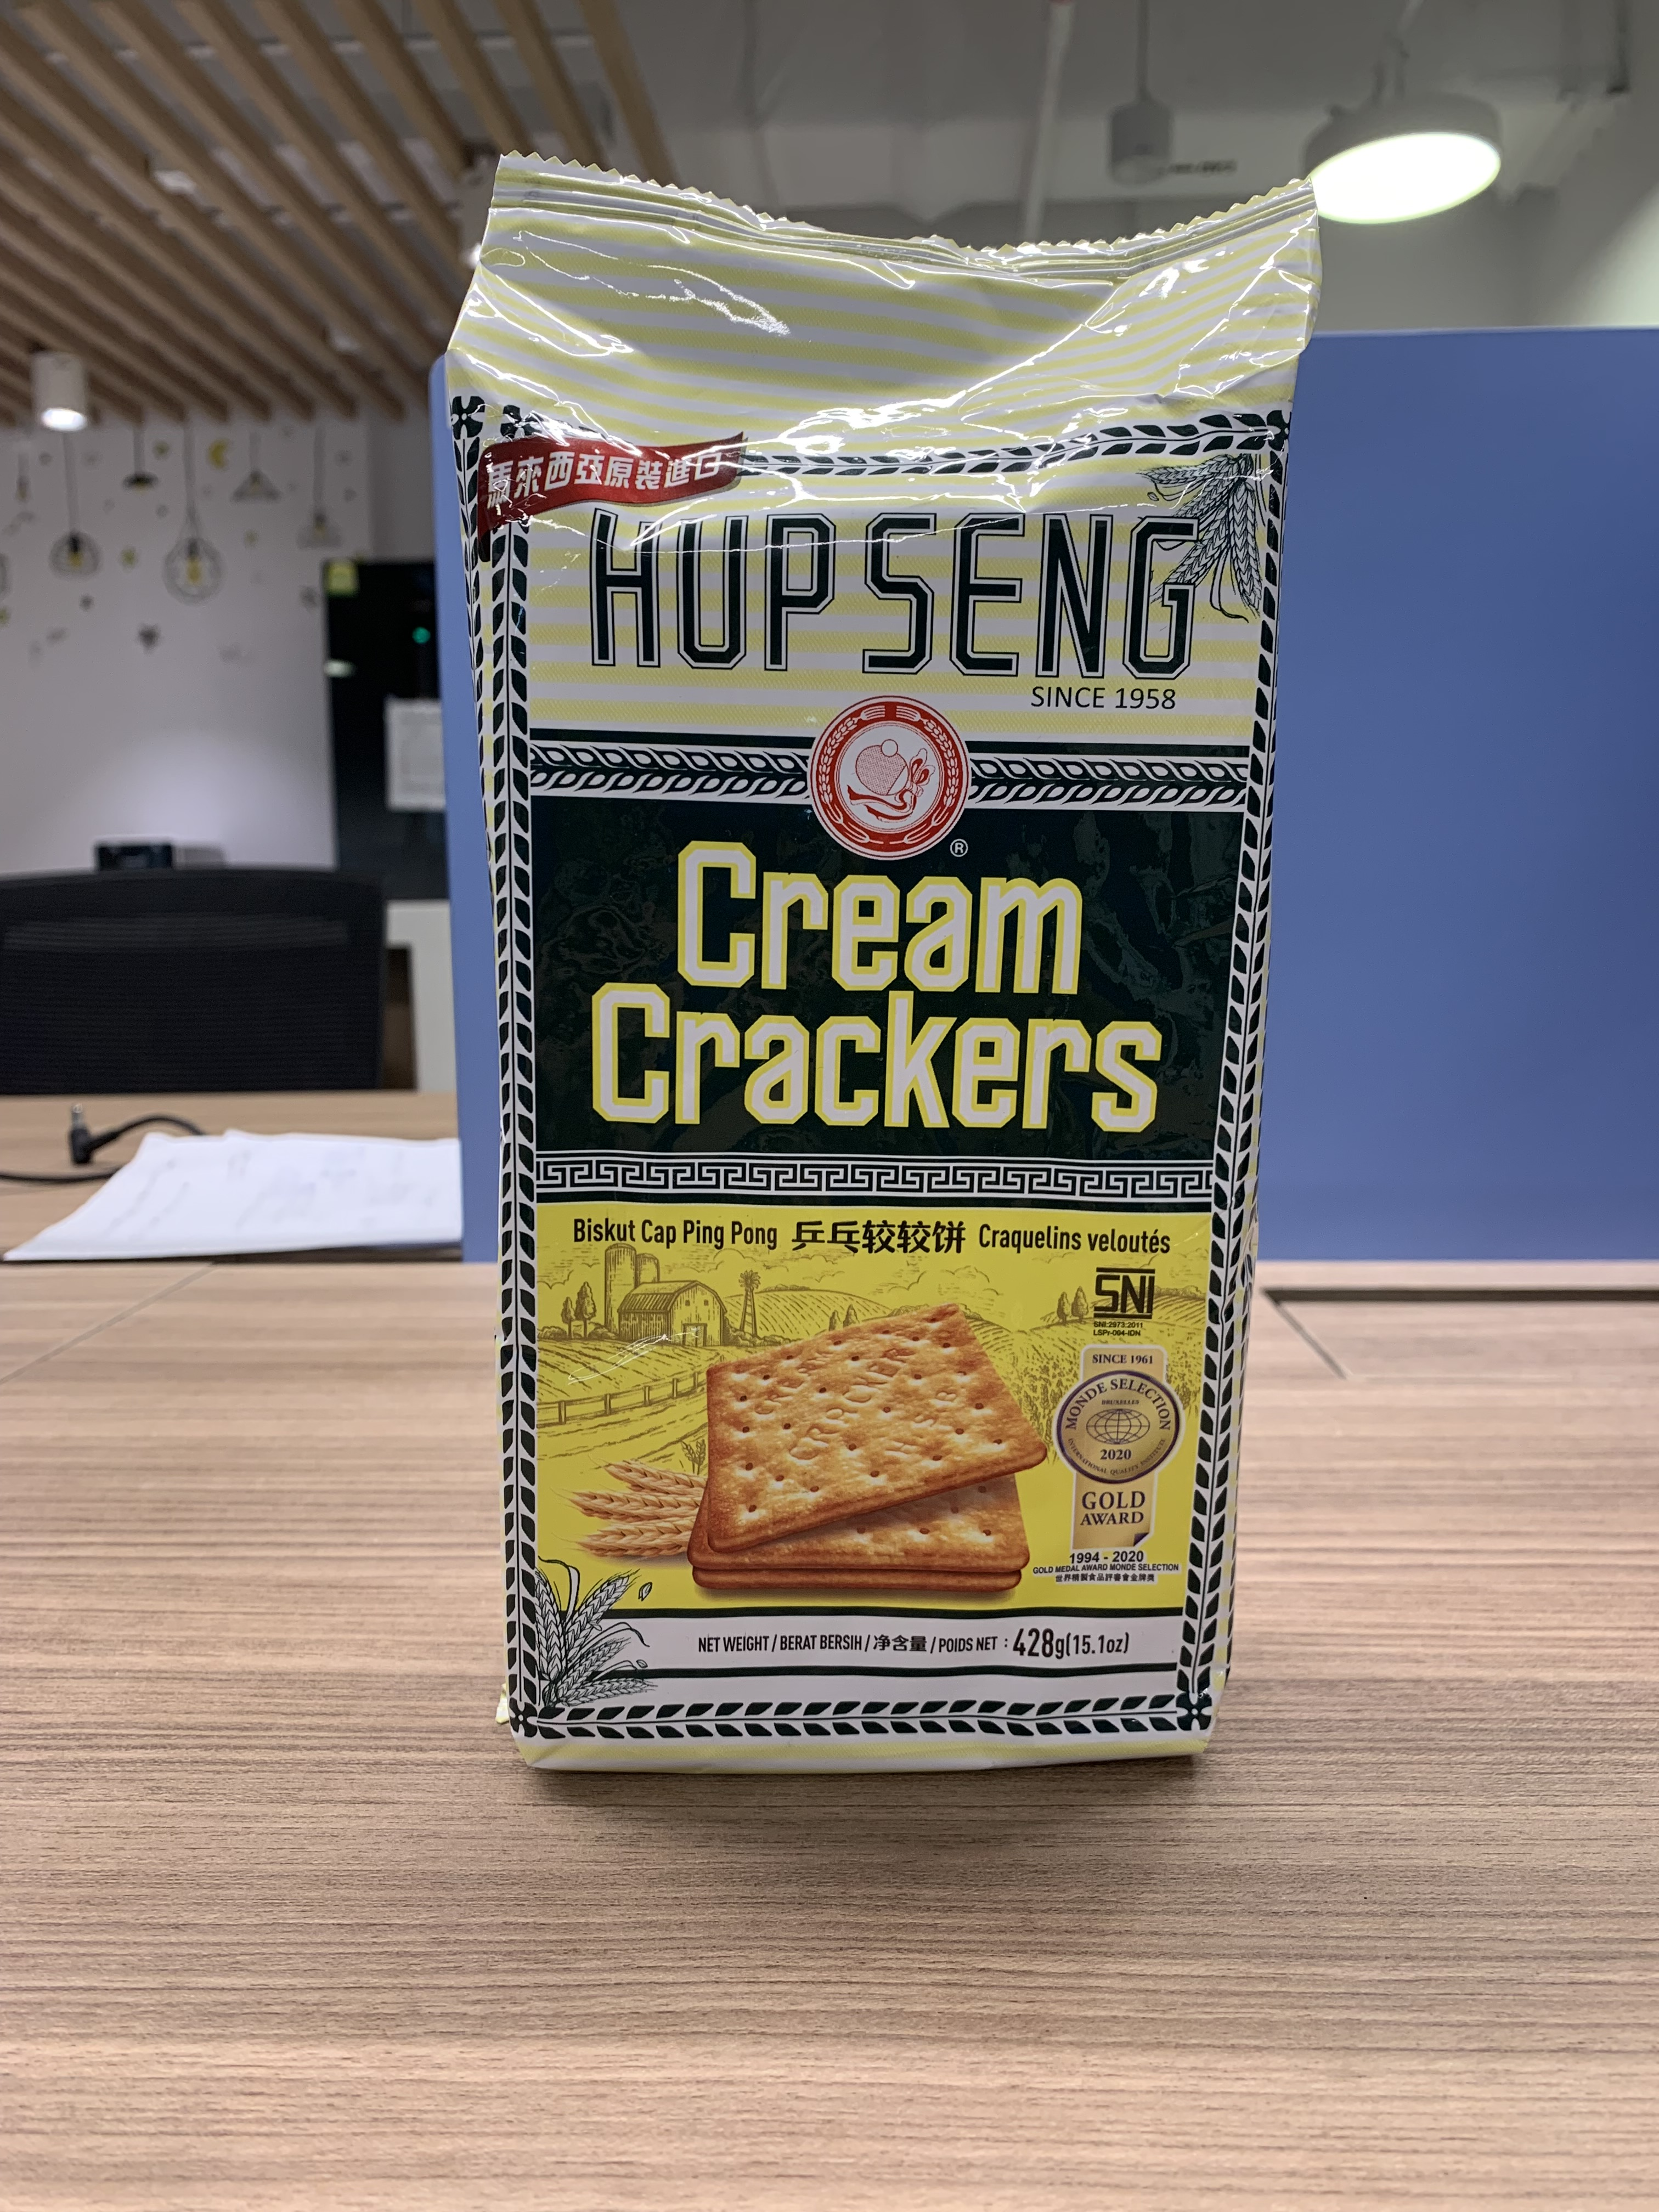crackers: (373, 146, 1333, 1803)
